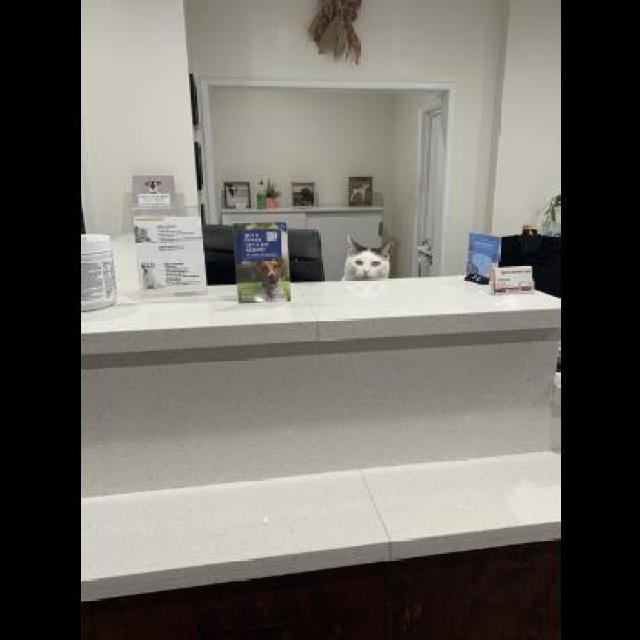unauthorized: (341, 232, 394, 278)
